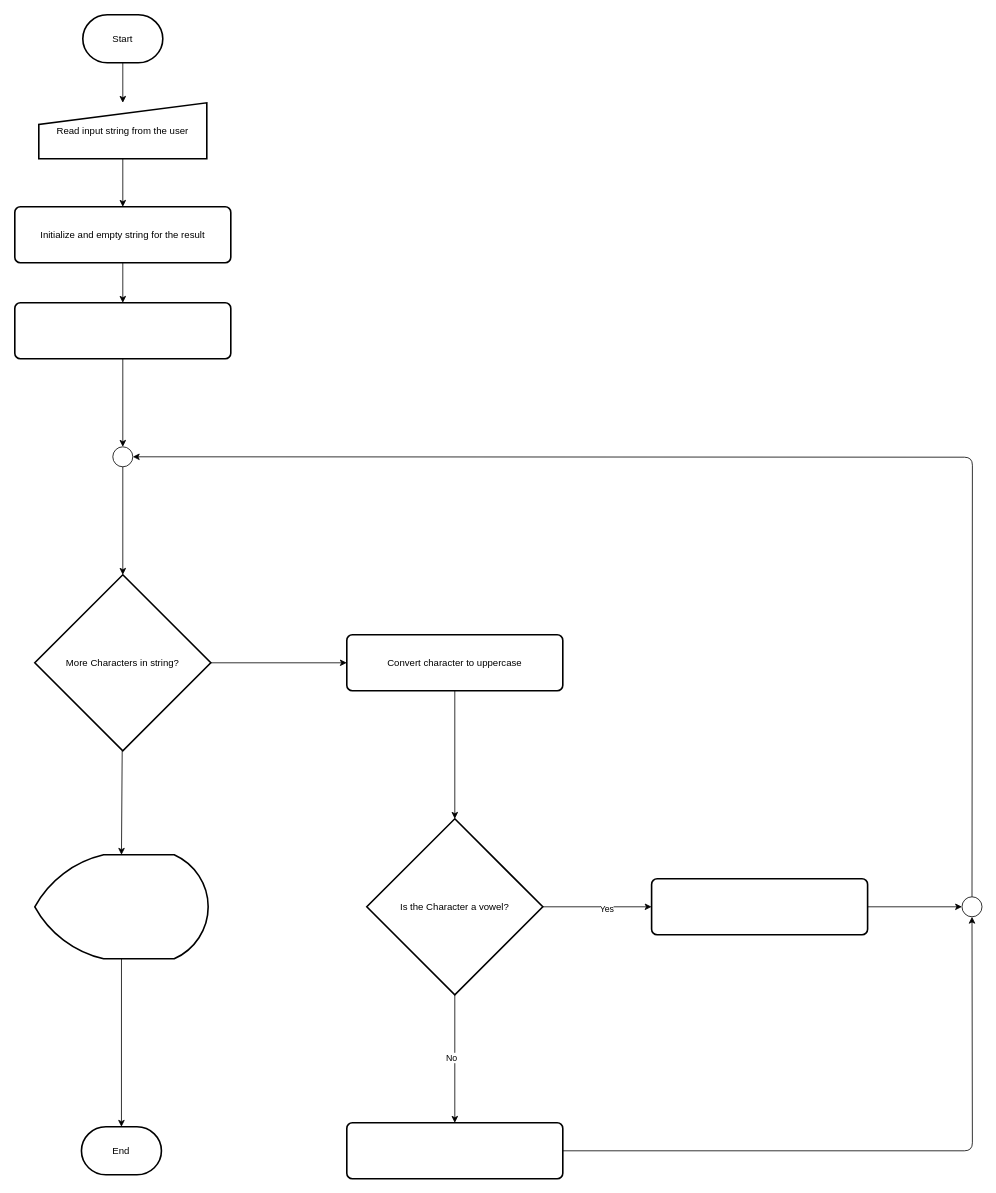
Some shapes in this 996 by 1193 pixel diagram are drawn without their labels. Here are the shapes that lost their labels. From the top down, the centre of each, then its label:
[122,330]: Define vowel as "aeiouAEIOU"
[121,906]: Print the modified string
[759,906]: Add the asterisk to the result
[454,1150]: Add the uppercase character to the result
